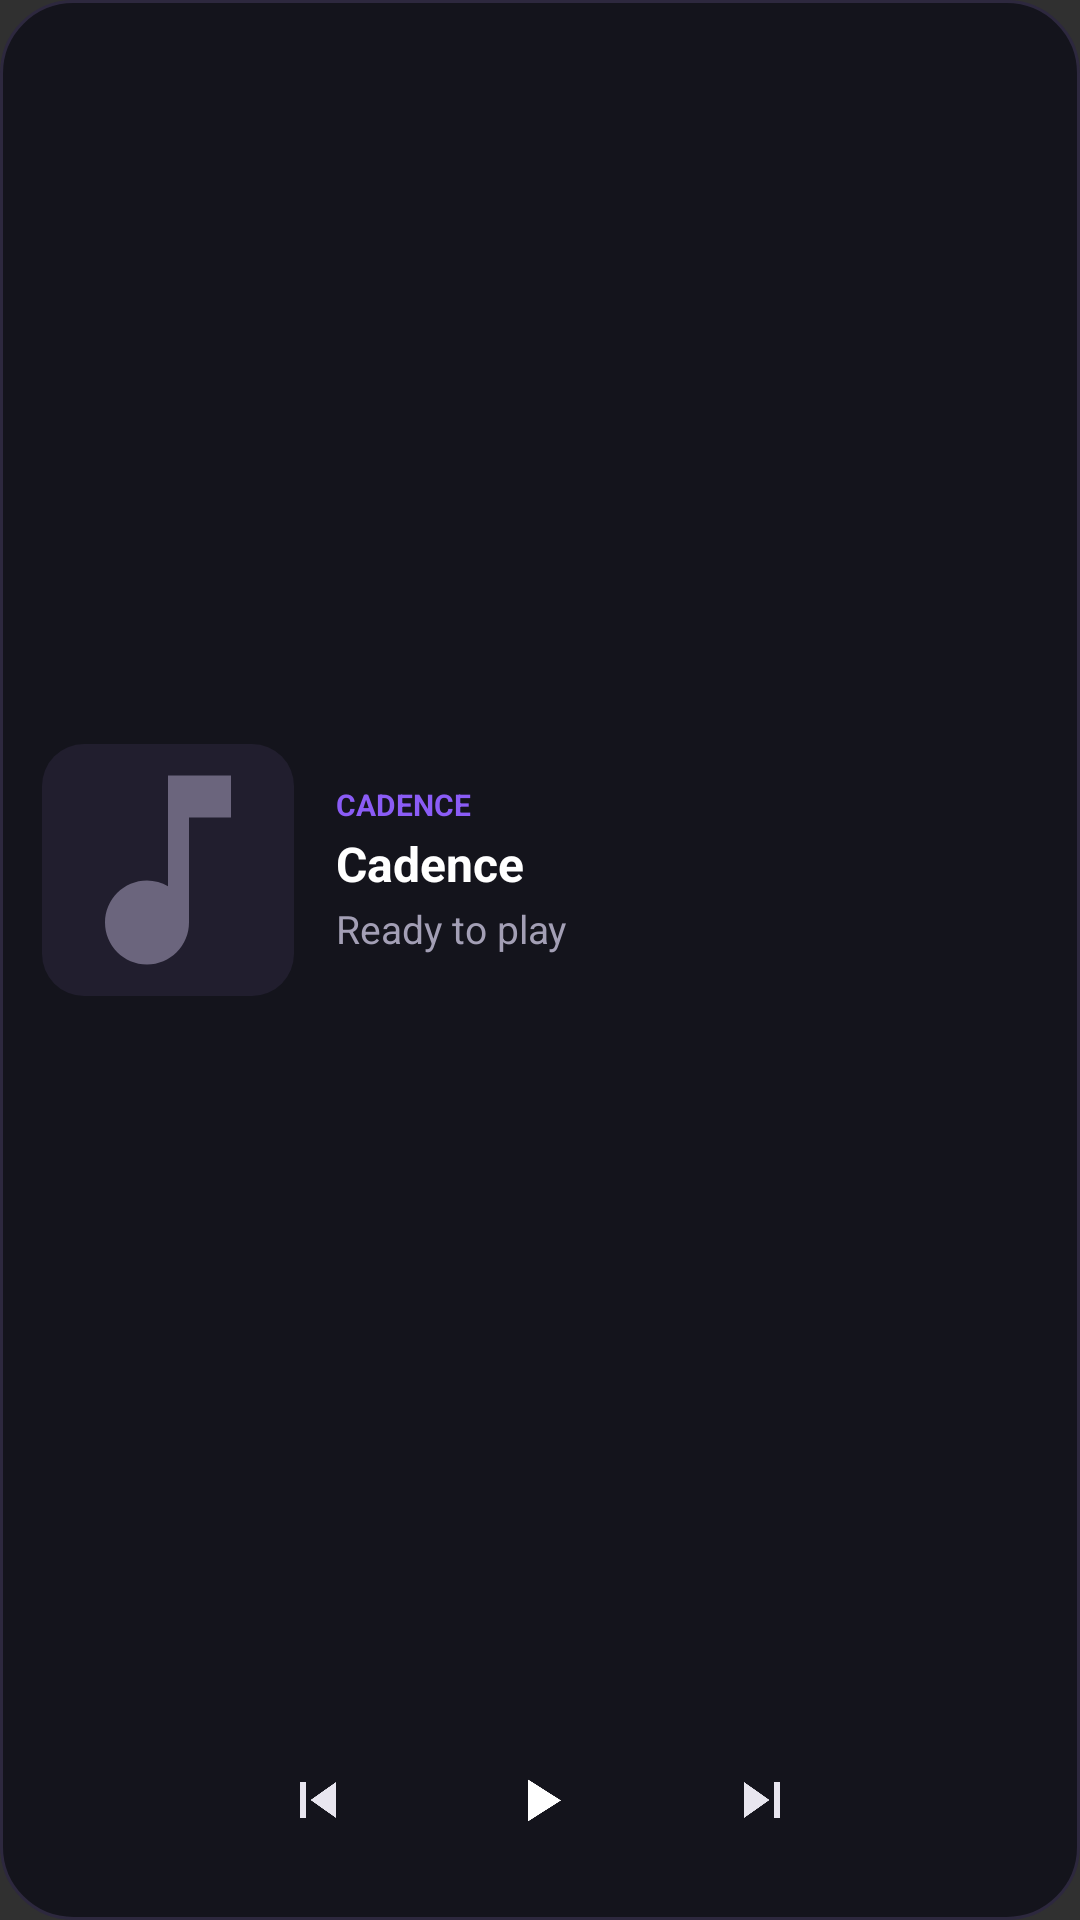

Where to tap for icons on this 1080x1920 app screen, as (x=x, y=y):
Album Art: (x=168, y=870)
Next: (x=762, y=1800)
Play or Pause: (x=544, y=1800)
Previous: (x=318, y=1800)
